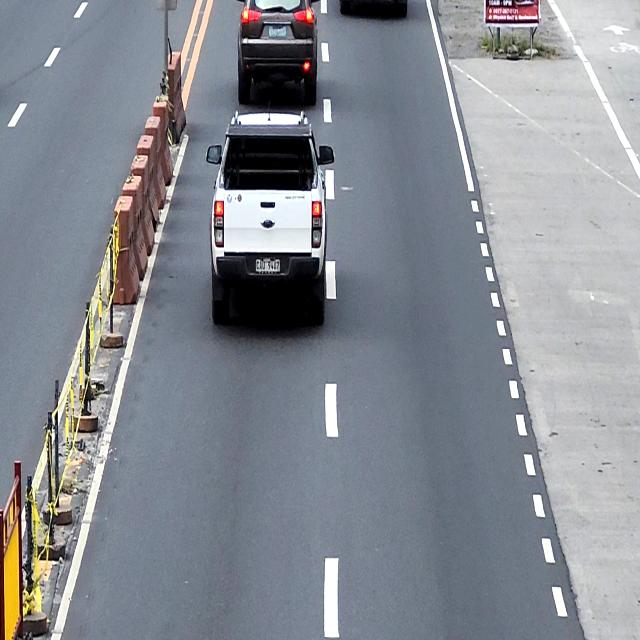Car: (206, 113, 335, 325), (236, 0, 322, 106)
License-Plate: (255, 258, 280, 273), (268, 24, 287, 39)
